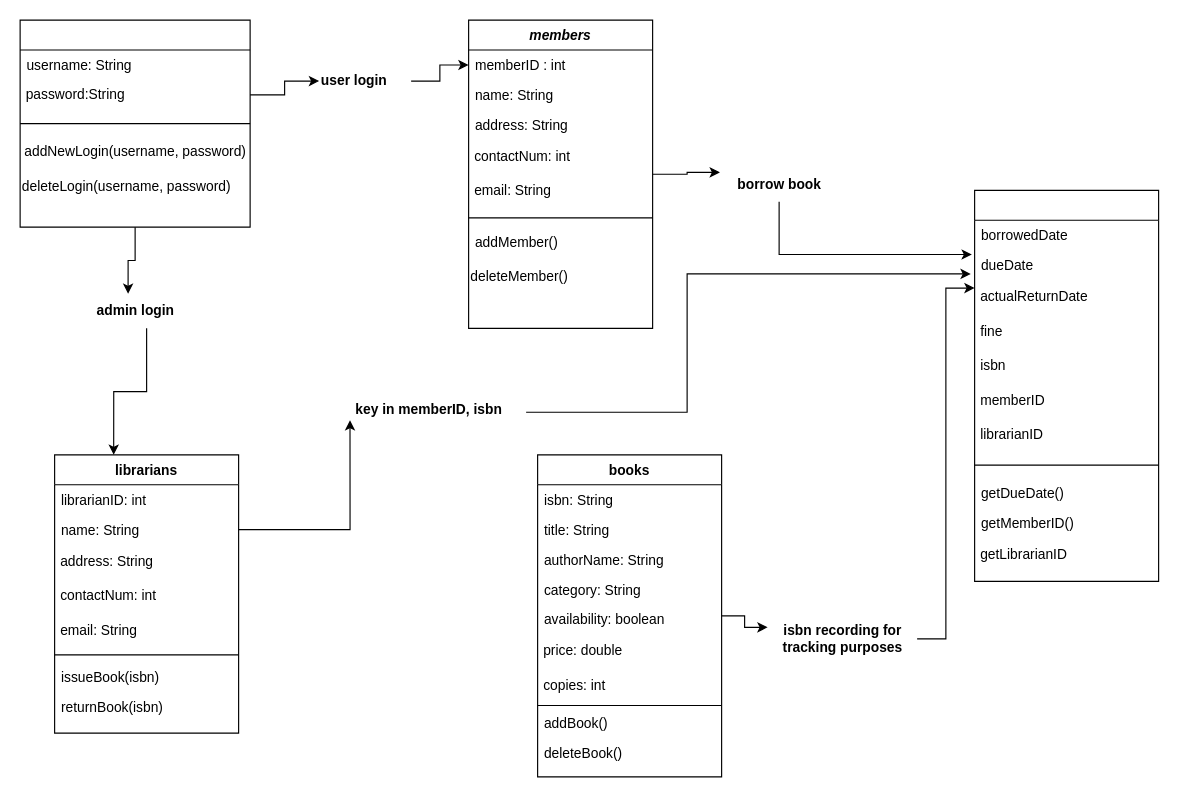
The diagram is 1179 pixels wide and 797 high, and some of its shapes have lost their labels. Each missing label, with the box of its shape:
loginDetails: (19, 19, 250, 227)
transactions: (973, 189, 1159, 581)
